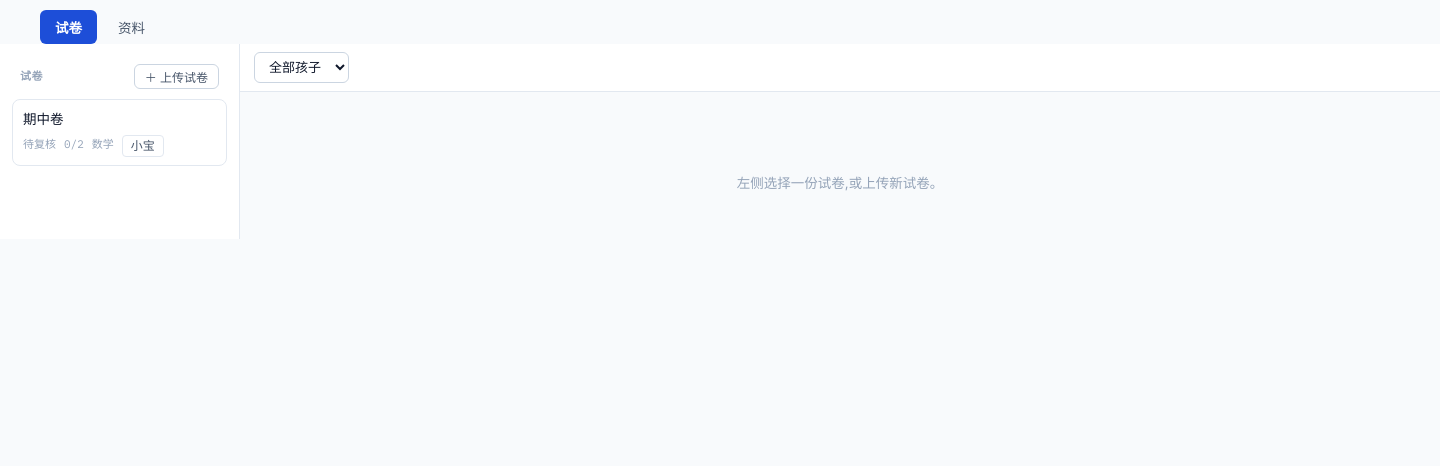
Test: ReviewView › ready_for_review 详情:提供查看整卷原件入口
What coordinates should you click on to do the following:
click the text "期中卷"
I would click on:
 (43, 119)
Its box is [23,111,64,127].
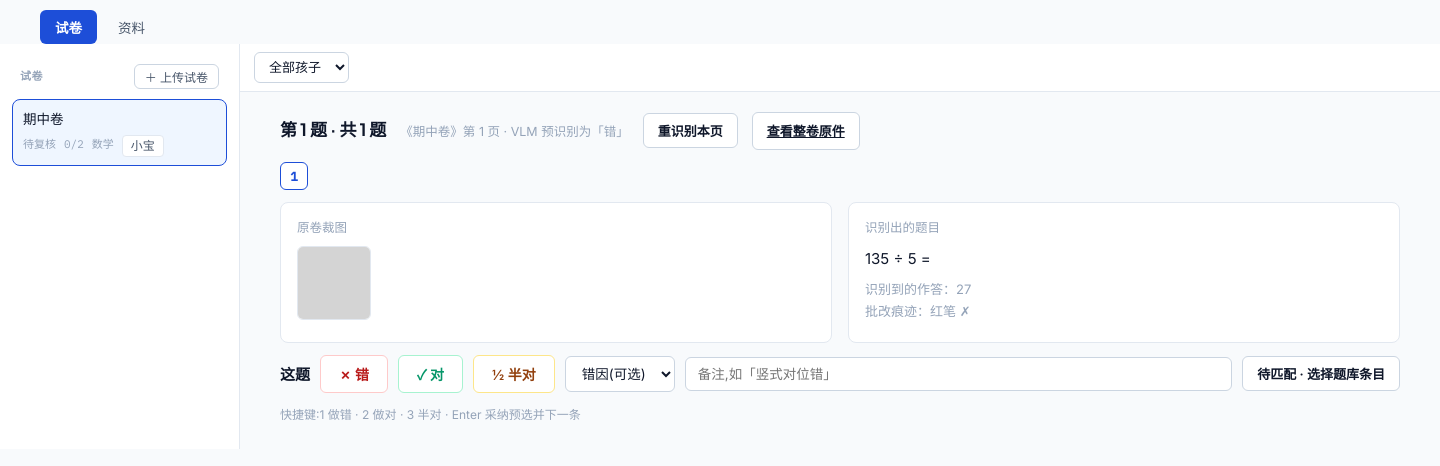
expect the text "135 ÷ 5 =" is shown: met, box [865,249,931,268]
